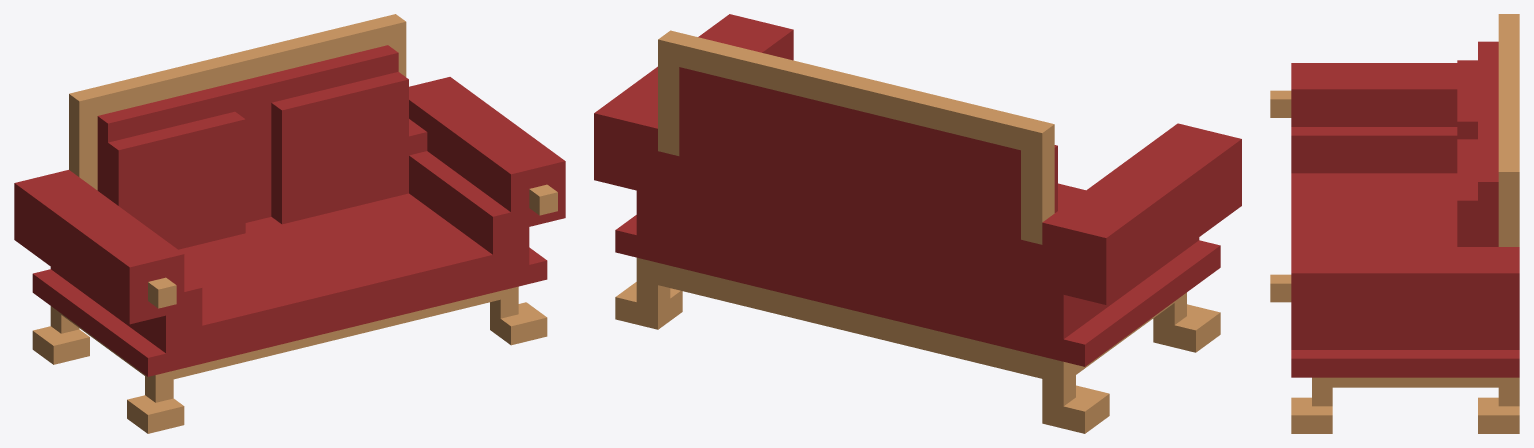
Rendered from Couch.obj.
3 views of the same model, side by side, from view 1: azimuth 30°, elevation 25°; view 2: azimuth 150°, elevation 25°; view 3: azimuth 270°, elevation 25° (orthographic). The views are drawn at different scales.
Size of the model in its own units: 24 by 13 by 12.
1 material, 1 textured.
